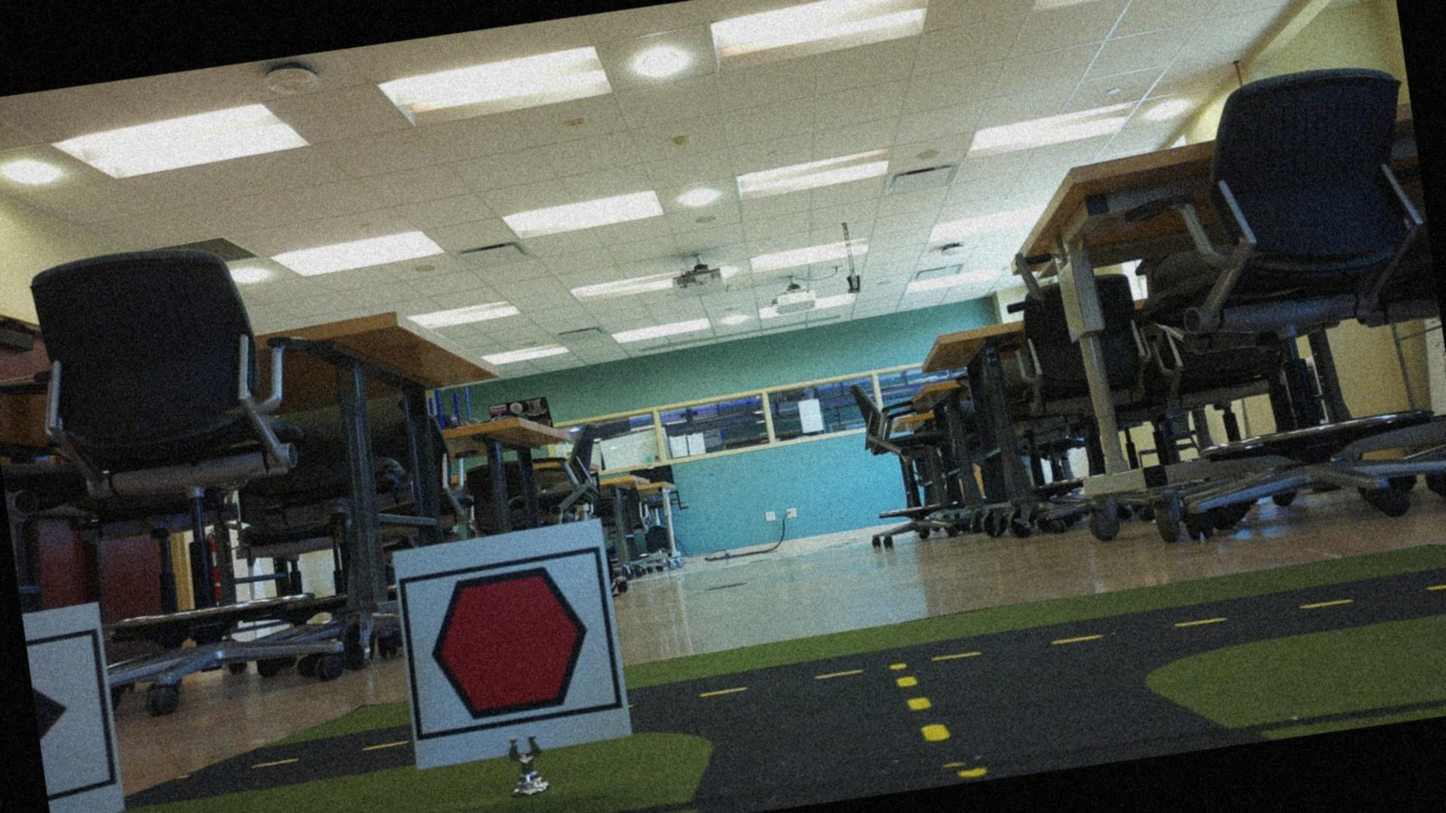stop: (404, 553, 612, 735)
yellowline: (892, 653, 951, 747)
